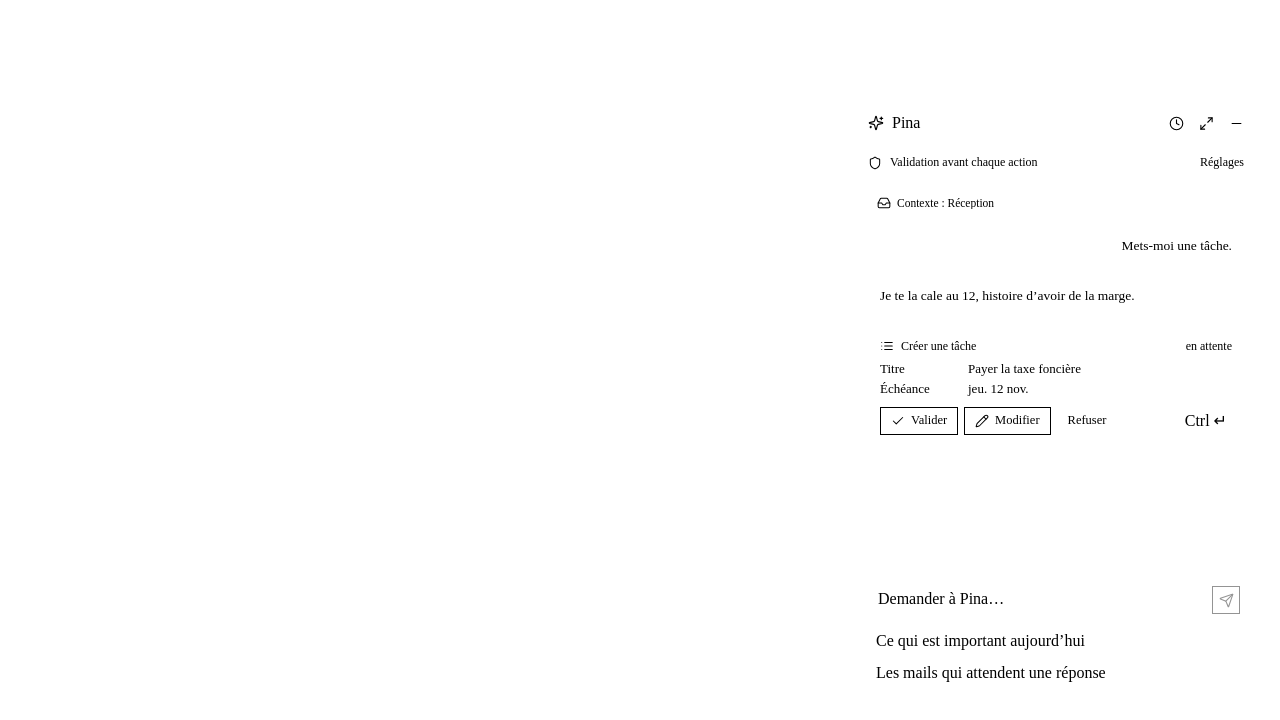
Pina › a 409 on a decision says why and reloads the thread
The image size is (1280, 720).
Click the button "Valider". click: point(919, 420)
box: [880,406,958,434]
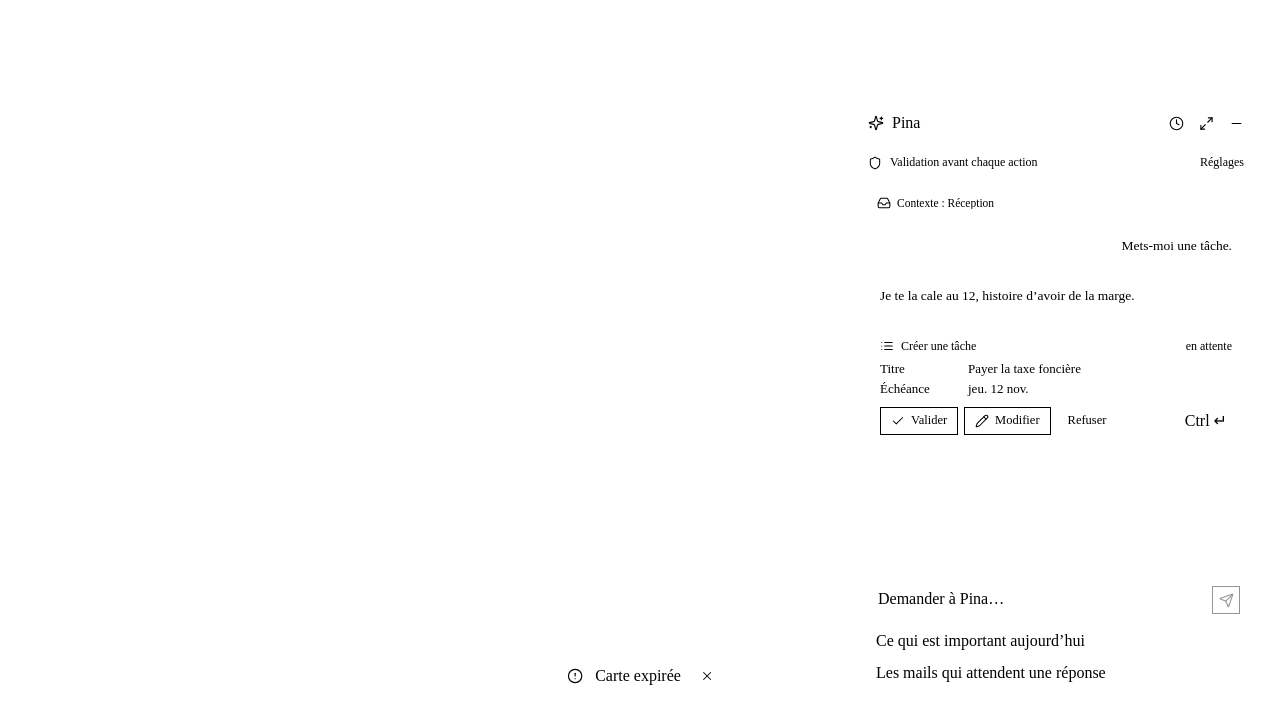
Result: the text "Carte expirée" is shown at [595,667,681,685]
